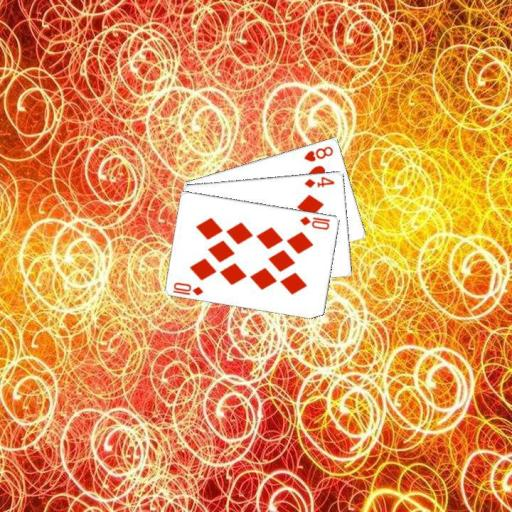10D: (170, 279, 205, 297), (298, 213, 332, 231)
4D: (302, 174, 337, 189)
8H: (301, 143, 335, 163)
